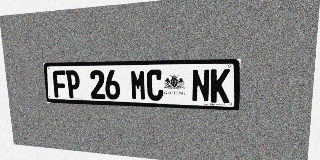2: (90, 70, 105, 99)
6: (104, 70, 120, 100)
C: (146, 69, 163, 101)
F: (52, 70, 67, 98)
K: (210, 69, 230, 103)
M: (130, 70, 147, 100)
N: (192, 69, 210, 102)
P: (66, 70, 81, 98)
